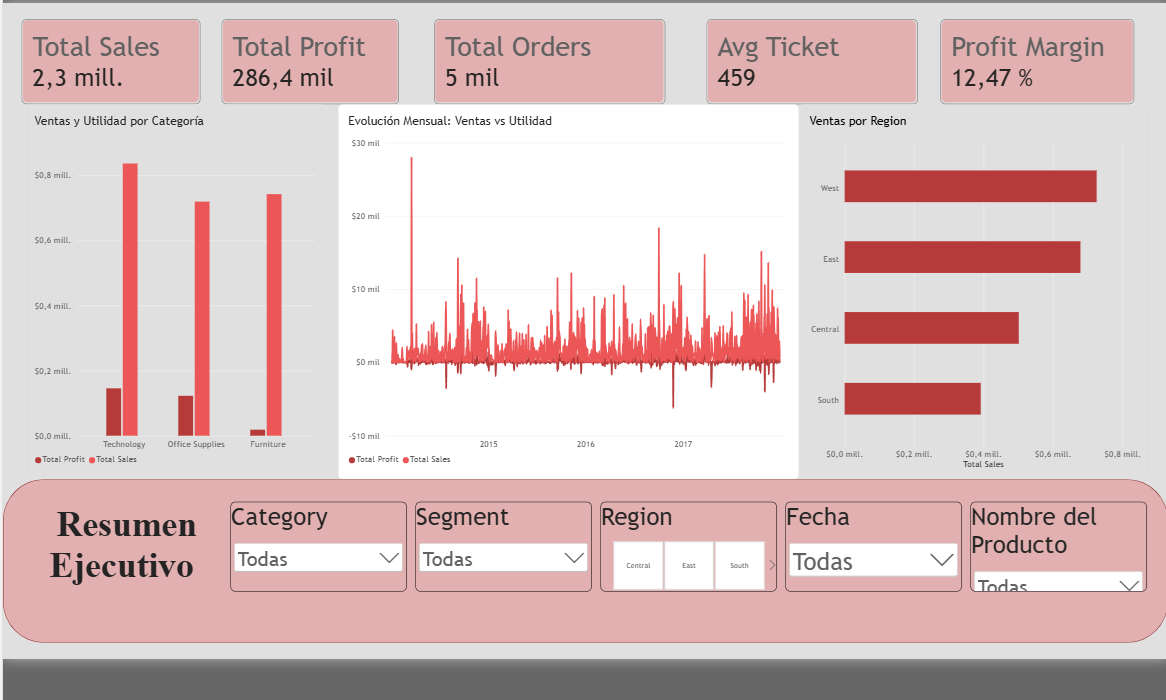

Layout of this report page (visuals, bound fields, positions):
{"tool":"powerbi","page":{"name":"Resumen","canvas":[1920,1080],"ordinal":0},"visuals":[{"type":"cardVisual","fields":{"Data":["Medidas DAX.Total Sales"]},"box":[30.9,26.8,294.3,140],"z":0},{"type":"cardVisual","fields":{"Data":["Medidas DAX.Total Profit"]},"box":[360.6,26.8,292.3,140],"z":1000},{"type":"cardVisual","fields":{"Data":["Medidas DAX.Total Orders"]},"box":[710.1,26.8,380.8,140],"z":2000},{"type":"cardVisual","fields":{"Data":["Medidas DAX.Avg Ticket"]},"box":[1160.9,26.8,347.9,140],"z":3000},{"type":"lineChart","title":"Evolución Mensual: Ventas vs Utilidad","fields":{"Category":["DIM_Fecha.Año","DIM_Fecha.Mes"],"Y":["Medidas DAX.Total Profit","Medidas DAX.Total Sales"]},"box":[531.6,166.9,760.3,618.2],"z":4000},{"type":"clusteredColumnChart","title":"Ventas y Utilidad por Categoría","fields":{"Category":["DIM_Producto.Category"],"Y":["Medidas DAX.Total Profit","Medidas DAX.Total Sales"]},"box":[35,166.9,496.6,618.2],"z":5000},{"type":"barChart","title":"Ventas por Region","fields":{"Category":["FACT_Ventas.Region"],"Y":["Medidas DAX.Total Sales"]},"box":[1292,166.9,601.7,618.2],"z":6000},{"type":"shape","box":[0,784.2,1920.4,269.6],"z":7000},{"type":"slicer","title":"Fecha","fields":{"Values":["DIM_Fecha.NombreMes","DIM_Fecha.Año"]},"box":[395.2,823.3,314.9,148.2],"z":8000},{"type":"textbox","box":[30.9,825.4,329.3,146.1],"z":9000},{"type":"slicer","title":"Nombre del Producto","fields":{"Values":["DIM_Producto.Product Name"]},"box":[819.2,823.3,395.2,148.2],"z":10000},{"type":"slicer","title":"Region","fields":{"Values":["FACT_Ventas.Region"]},"box":[1325.6,798.6,364.3,240.8],"z":11000},{"type":"cardVisual","fields":{"Data":["Medidas DAX.Profit Margin"]},"box":[1545.8,26.8,319,140],"z":12000}]}

Visuals, with their boxes on the page's 1920x1080 design canvas (x1, y1, x2, y2). These are canvas units, not pixel positions in the 1166x700 screenshot, which may show the page scaled, cropped or inside an application window:
cardVisual - Medidas DAX.Total Sales: <region>31, 27, 325, 167</region>
cardVisual - Medidas DAX.Total Profit: <region>361, 27, 653, 167</region>
cardVisual - Medidas DAX.Total Orders: <region>710, 27, 1091, 167</region>
cardVisual - Medidas DAX.Avg Ticket: <region>1161, 27, 1509, 167</region>
"Evolución Mensual: Ventas vs Utilidad" lineChart: <region>532, 167, 1292, 785</region>
"Ventas y Utilidad por Categoría" clusteredColumnChart: <region>35, 167, 532, 785</region>
"Ventas por Region" barChart: <region>1292, 167, 1894, 785</region>
shape: <region>0, 784, 1920, 1054</region>
"Fecha" slicer: <region>395, 823, 710, 972</region>
textbox: <region>31, 825, 360, 972</region>
"Nombre del Producto" slicer: <region>819, 823, 1214, 972</region>
"Region" slicer: <region>1326, 799, 1690, 1039</region>
cardVisual - Medidas DAX.Profit Margin: <region>1546, 27, 1865, 167</region>
